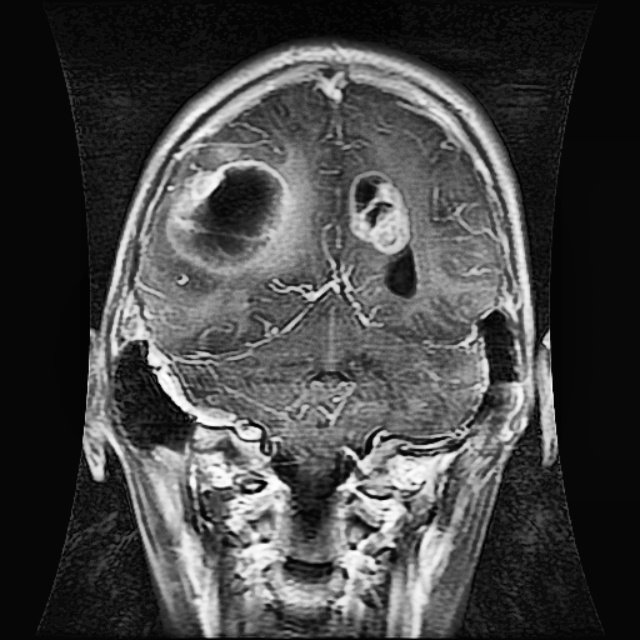Meningioma: (165, 139, 297, 278)
